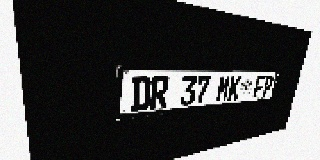3: (179, 76, 197, 106)
7: (194, 75, 211, 104)
D: (131, 76, 152, 111)
F: (253, 75, 266, 98)
K: (227, 75, 242, 101)
M: (216, 75, 231, 102)
P: (261, 75, 274, 97)
R: (150, 76, 170, 109)
